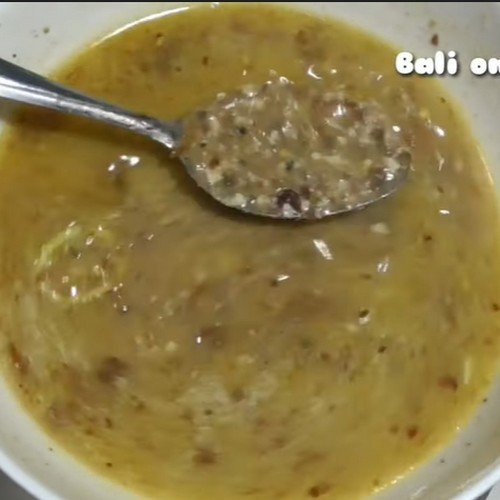komoh: (6, 221, 452, 474)
